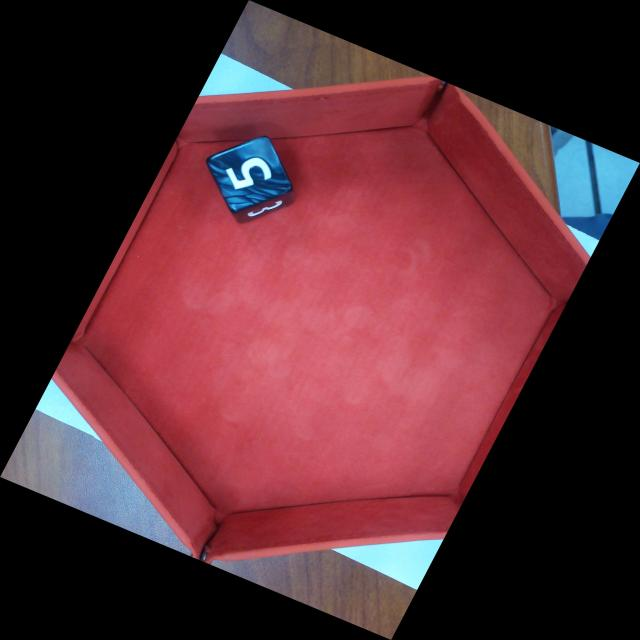dice: (204, 133, 300, 219)
